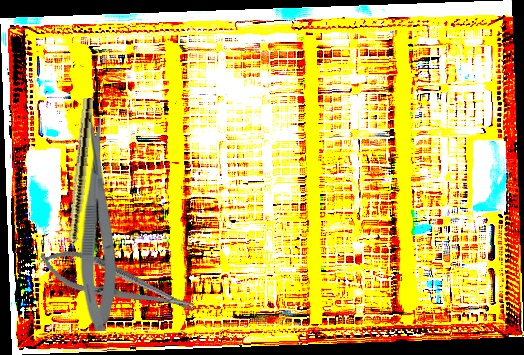Handpiece: (62, 97, 95, 273)
Micro Scissor: (80, 115, 117, 331)
Needle Holder: (34, 240, 199, 326)
